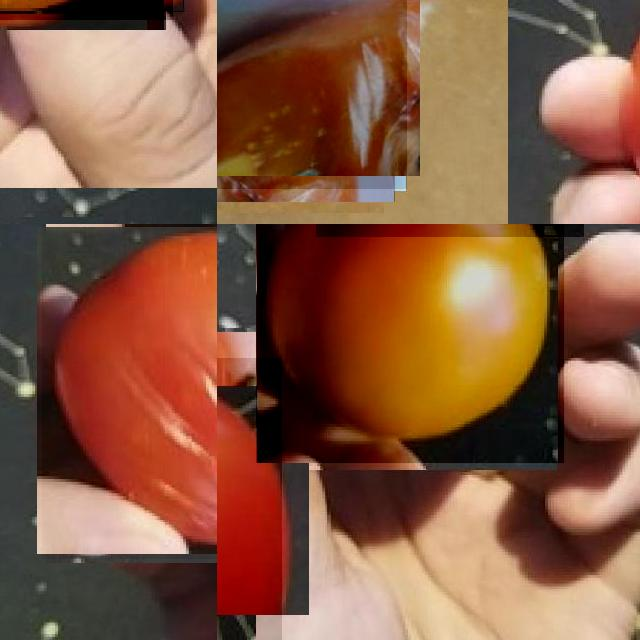1: (41, 224, 217, 558)
Fresh Tomato: (256, 224, 564, 463), (217, 358, 282, 640)
Rotten Tomato: (217, 0, 407, 189)
